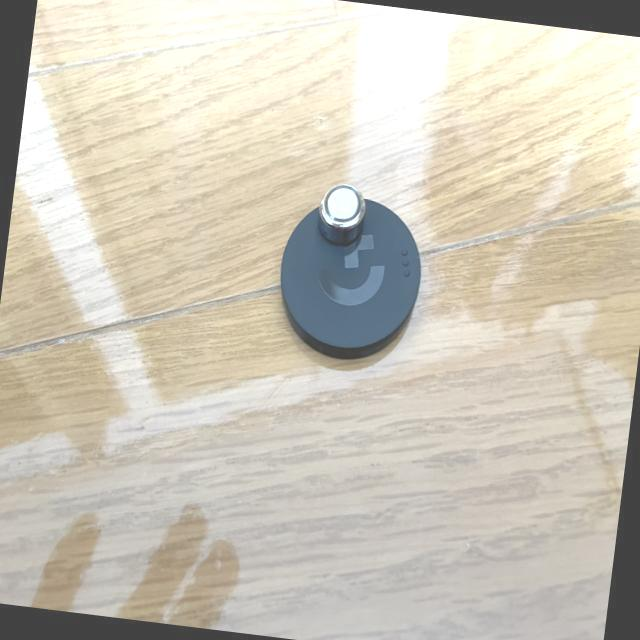COIN: (314, 180, 369, 250)
